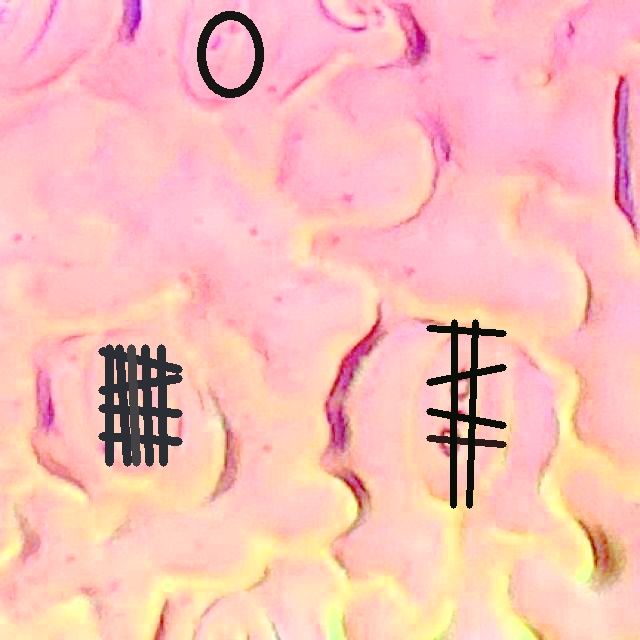close: (98, 344, 182, 466), (195, 10, 264, 98)
open: (426, 319, 506, 508)
